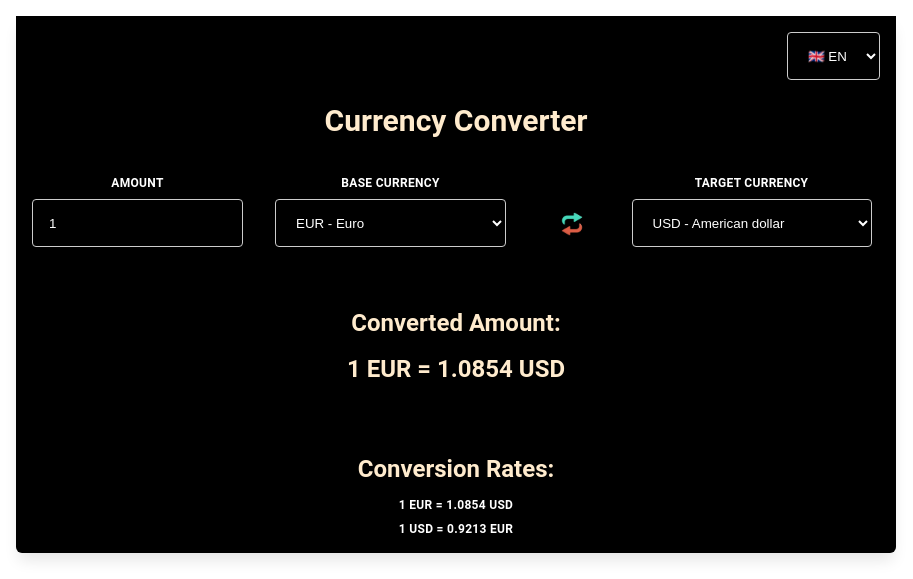
Test: CurrencyConvertor › should swap the order of the currencies when the swap currencies button is pressed
Expected: the dropdown labelled "Base Currency" shows "EUR - Euro", [275,199,506,247]
Expected: the dropdown labelled "Target Currency" shows "USD - American dollar", [632,199,872,247]
Click the button at {"x": 560, "y": 224}, box [552,209,568,239]
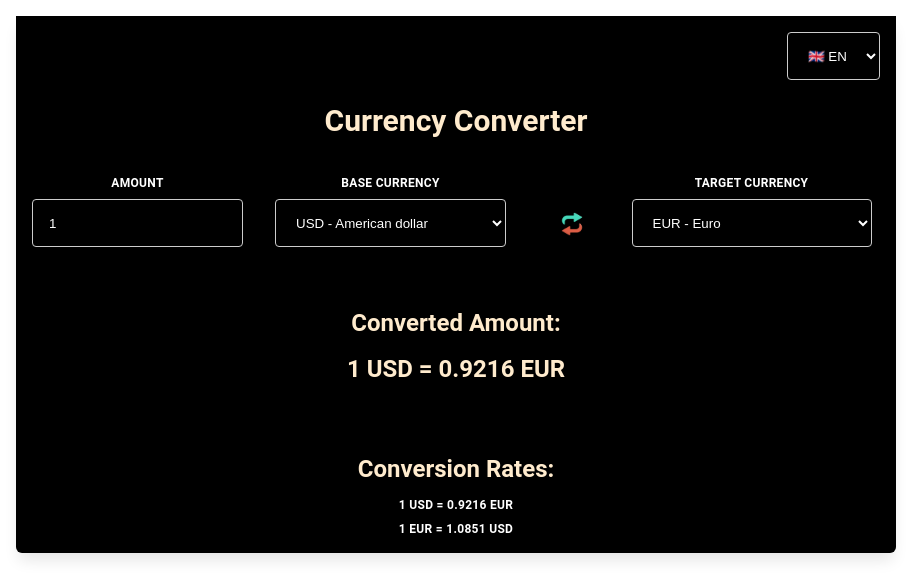
Expected: the text "1 USD = 0.9216 EUR" is shown 2 times, [347,355,565,383]; [399,498,513,512]
Now the dropdown labelled "Base Currency" shows "USD - American dollar", box [275,199,506,247]
Now the dropdown labelled "Target Currency" shows "EUR - Euro", box [632,199,872,247]
